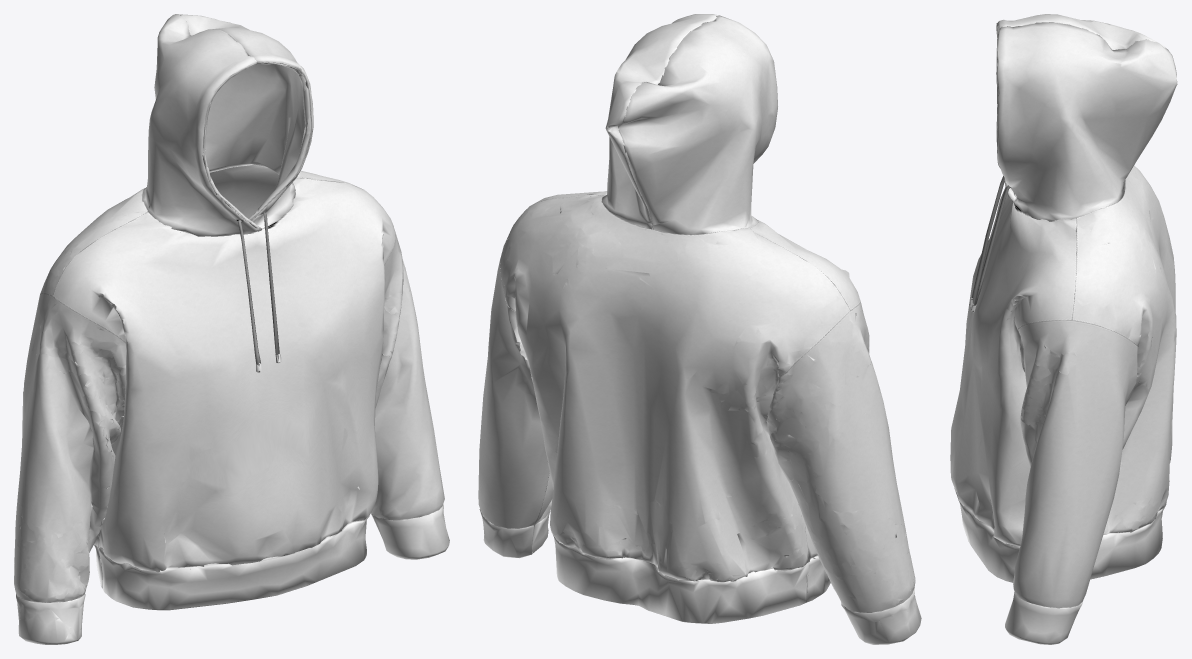
The model's file is hoodie.glb.
3 renders of one model, left to right at view 1: azimuth 30°, elevation 25°; view 2: azimuth 150°, elevation 25°; view 3: azimuth 270°, elevation 25°, orthographic. The views are drawn at different scales.
Parts seen in each view (by area): view 1: Object_2; view 2: Object_2; view 3: Object_2.
Boxes of the visible parts, x1,y1,x2,y2 form: Object_2: [14, 14, 449, 644]; Object_2: [478, 14, 921, 644]; Object_2: [950, 14, 1177, 644].
Size of the model in its own units: 0.7502 by 0.9486 by 0.3667.
Materials: 1 (1 with a texture image).
